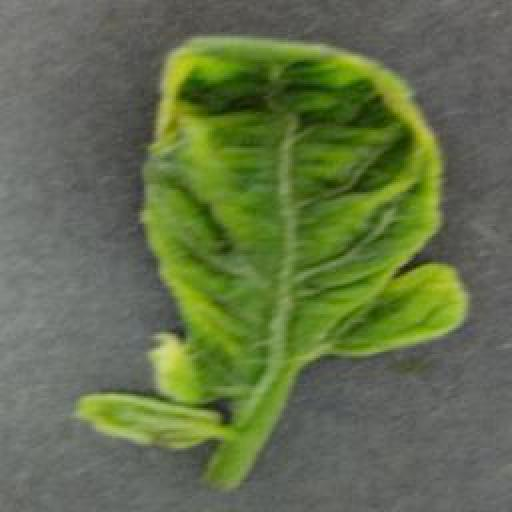disease_tomato: (138, 32, 470, 406)
